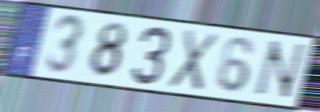3: (42, 11, 87, 80), (128, 24, 174, 87)
6: (214, 35, 257, 97)
8: (85, 21, 127, 81)
N: (249, 39, 309, 102)
X: (165, 27, 221, 94)
